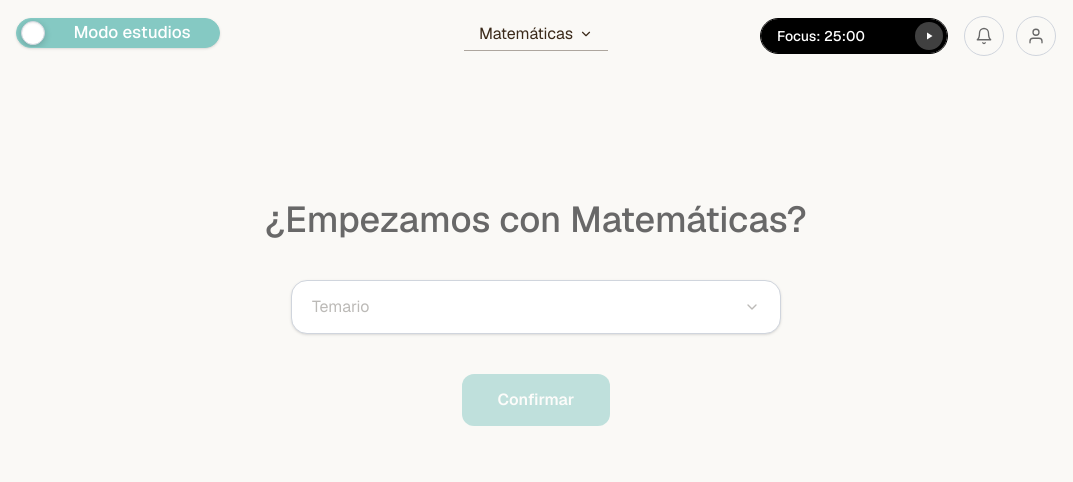
Chat — stage de seleção de tópico › should keep Confirmar disabled until a topic is selected
Expected: the button "Confirmar" is disabled, [462, 374, 610, 426]
Click the button with aria-label "Seleccionar tema". click: (341, 306)
box: [291, 280, 781, 334]
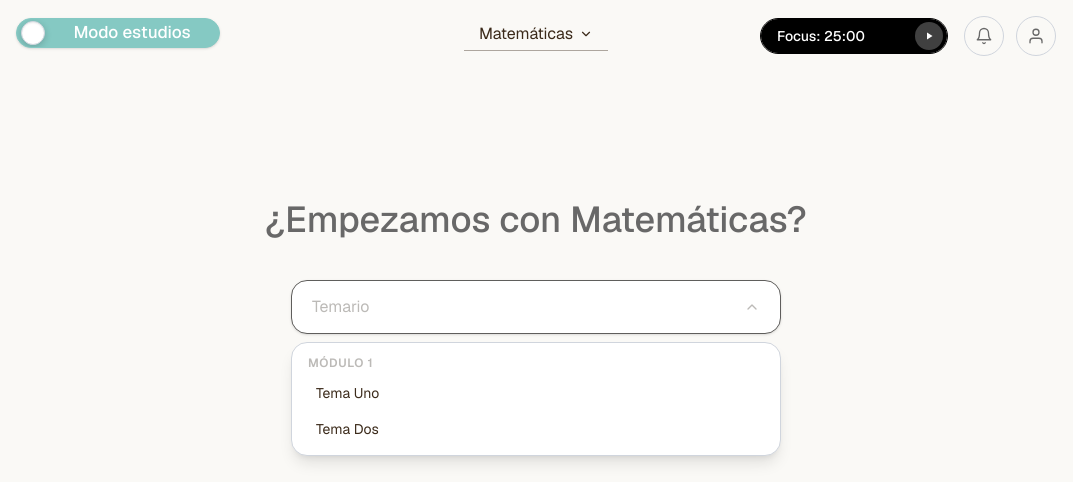
Click the button "Tema Uno". click: (348, 393)
box: [292, 375, 780, 411]
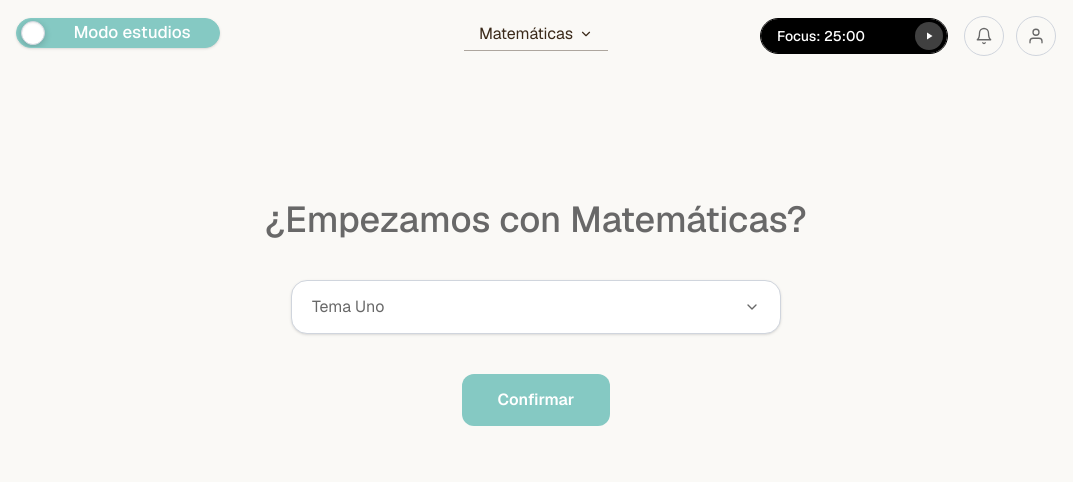
Result: the button "Confirmar" is enabled at [462, 374, 610, 426]
